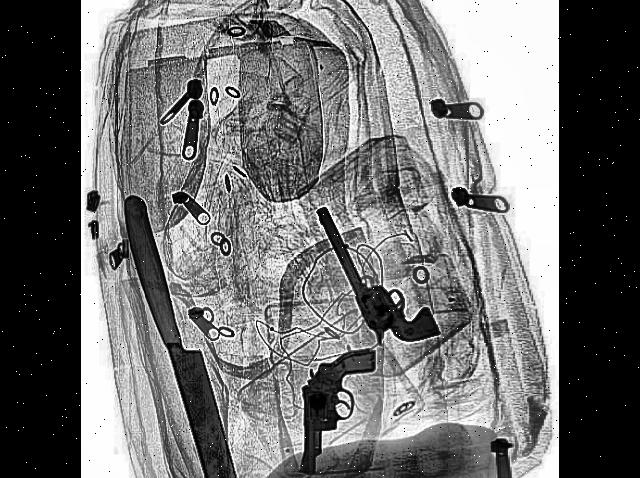Gun: (314, 164, 442, 378), (302, 341, 378, 477)
Knife: (115, 180, 260, 478)
